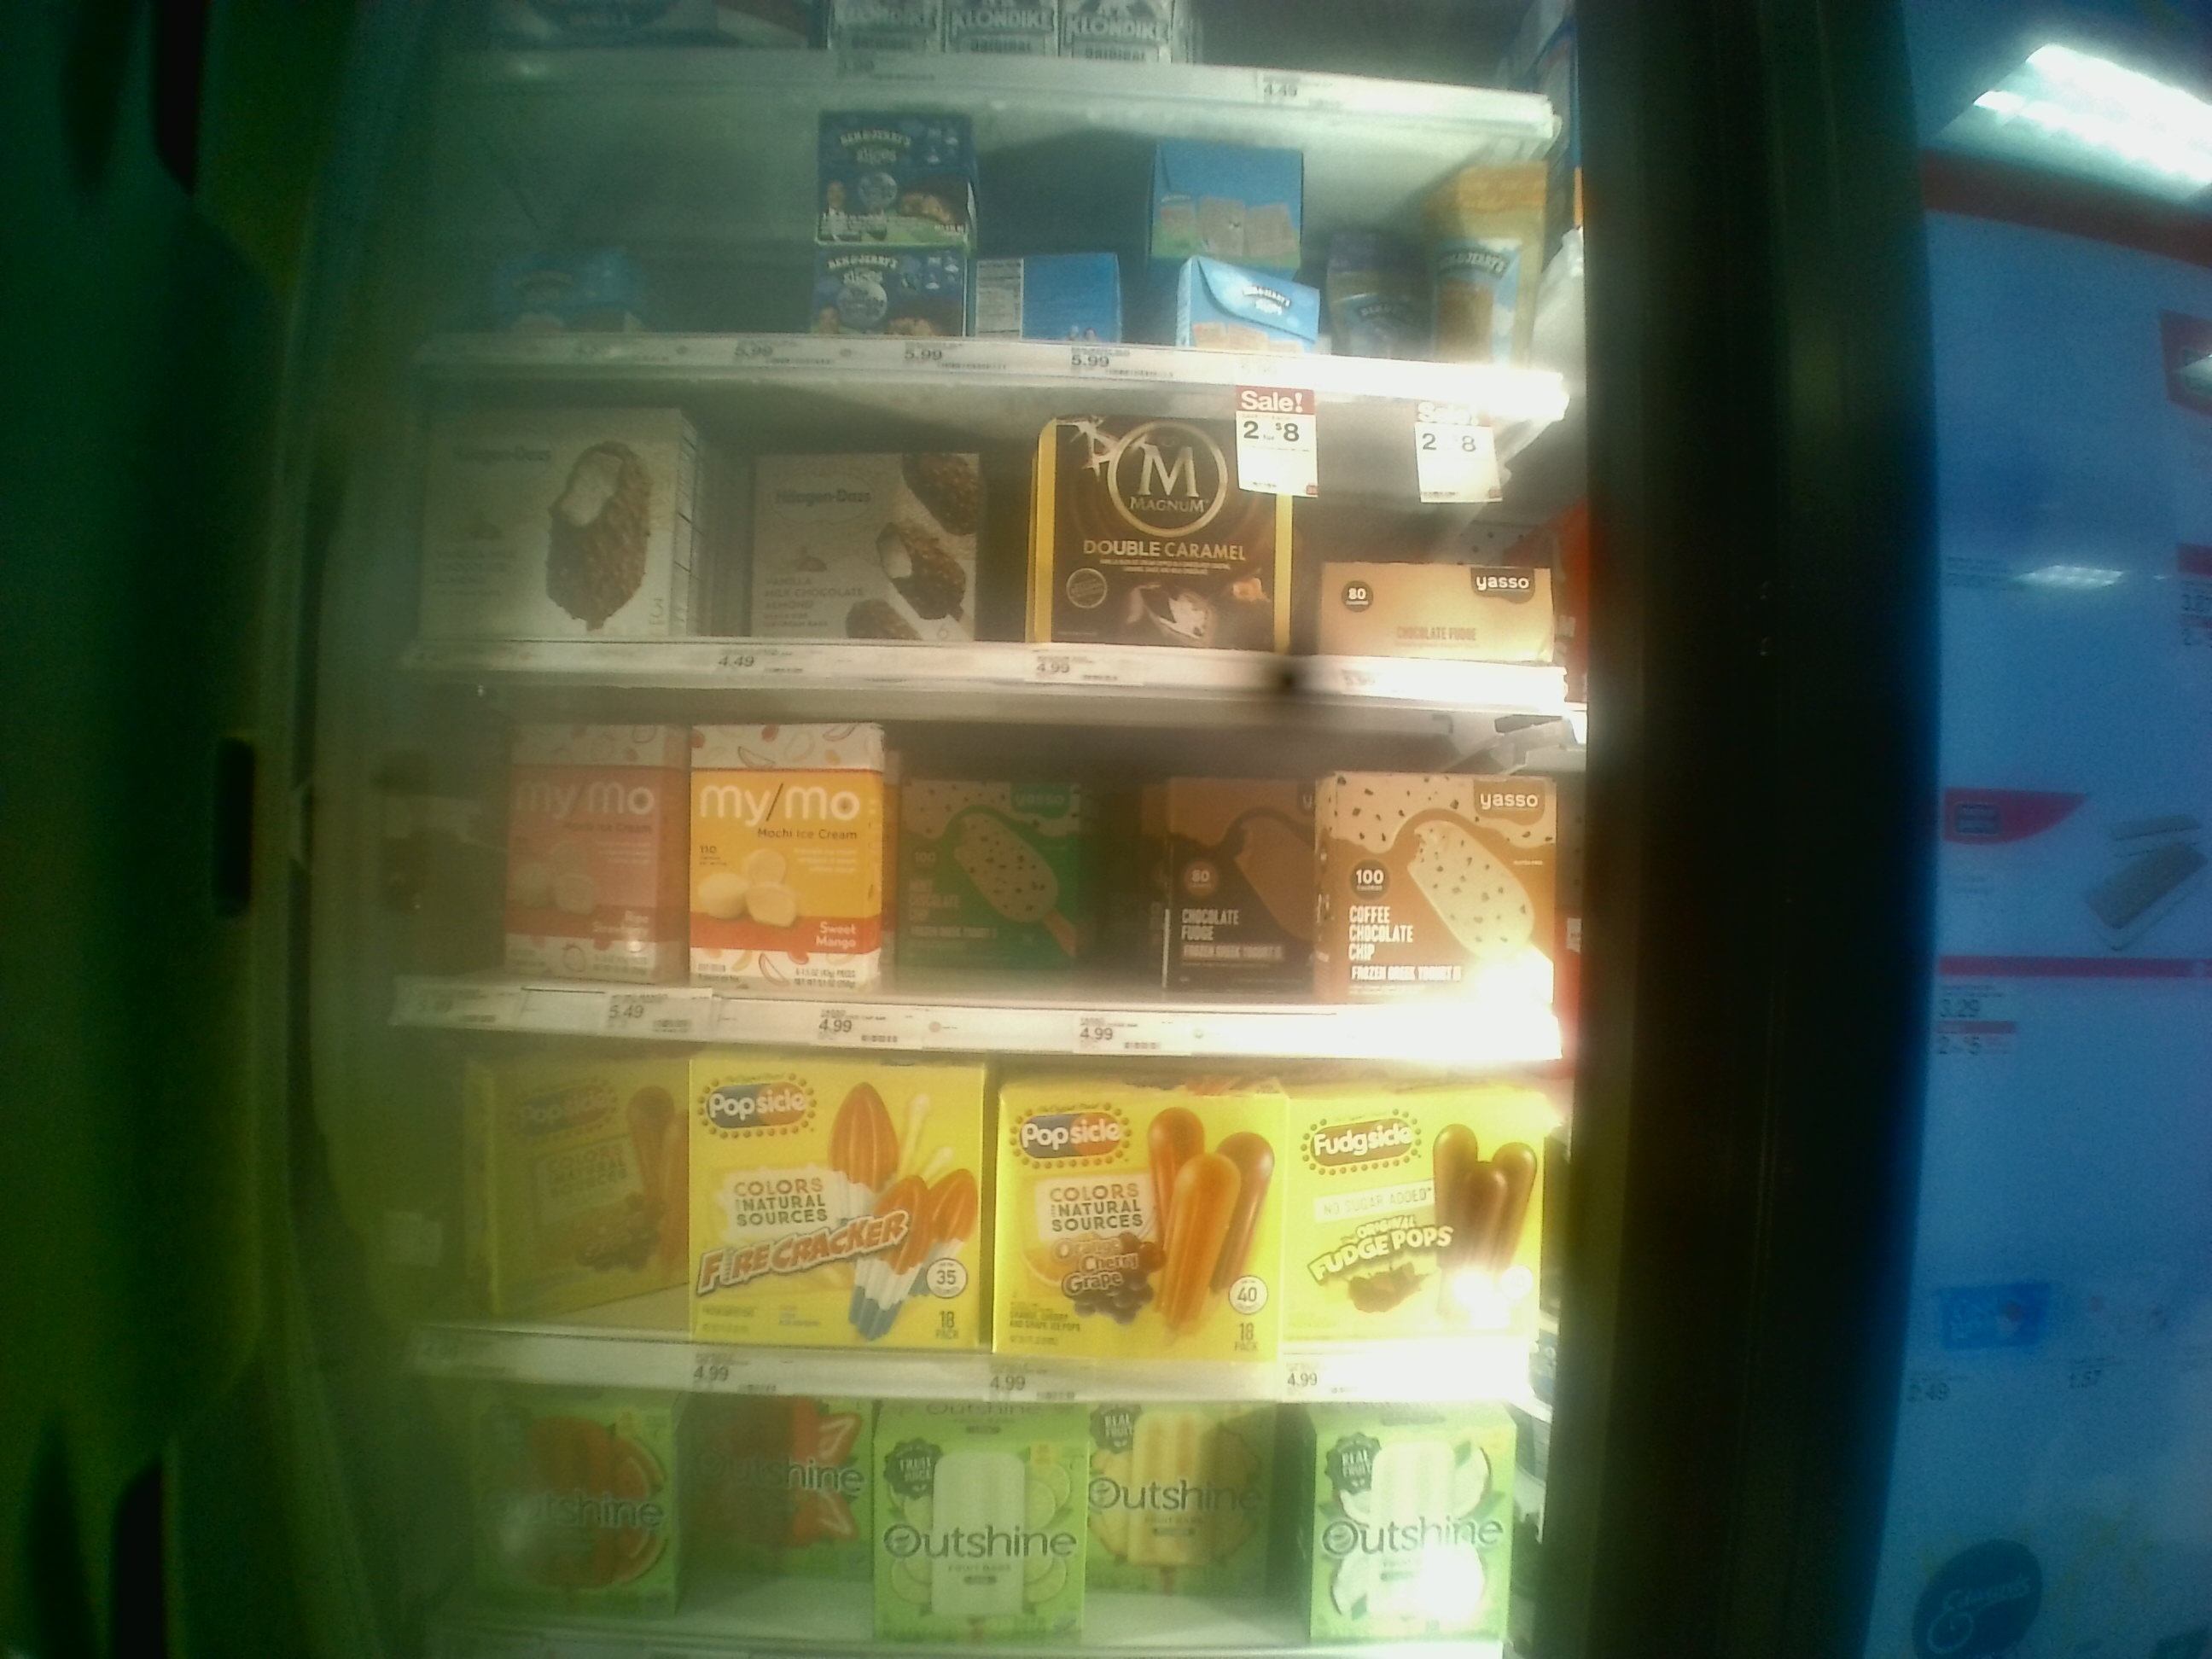ice-cream-shelf: (374, 673, 1571, 1042)
